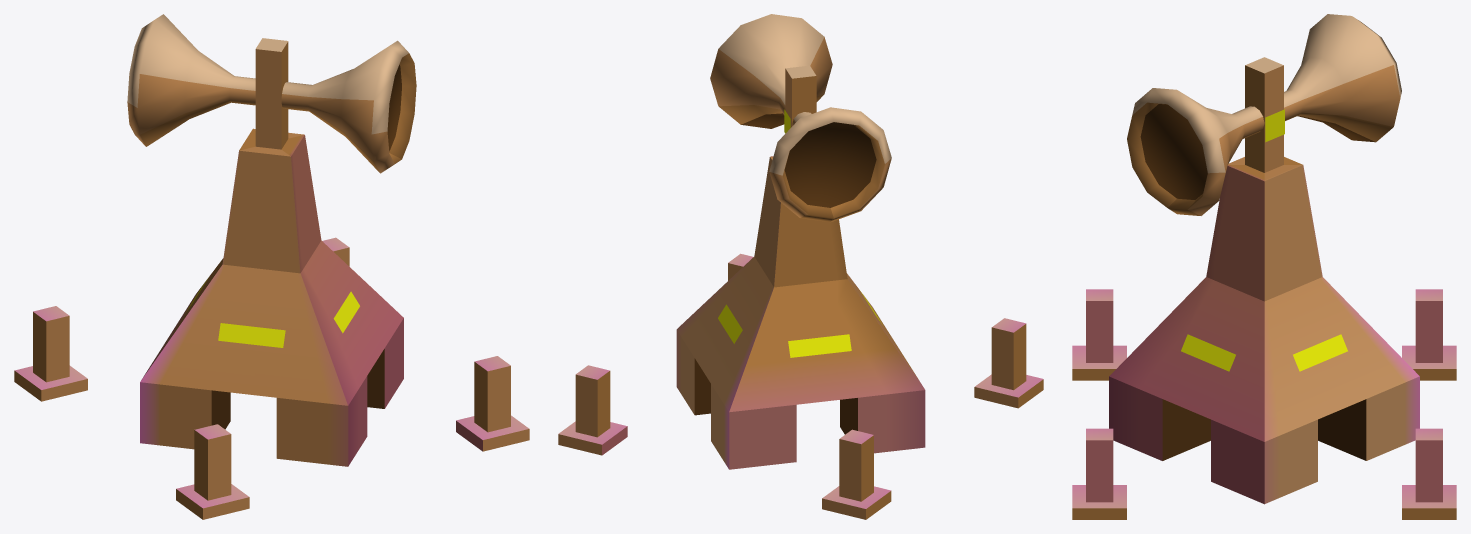
The model's file is CommTower.BrownDesert.glb.
3 renders of one model, left to right at view 1: azimuth 30°, elevation 25°; view 2: azimuth 150°, elevation 25°; view 3: azimuth 270°, elevation 25°, orthographic. The views are drawn at different scales.
Visible parts, largest first — view 1: CommTower.BrownDesert; view 2: CommTower.BrownDesert; view 3: CommTower.BrownDesert.
Part boxes in pixels (box(x1,y1,x2,y2)): CommTower.BrownDesert: box(14, 14, 529, 519); CommTower.BrownDesert: box(558, 14, 1043, 519); CommTower.BrownDesert: box(1072, 14, 1456, 519).
Size of the model in its own units: 2.8 by 3.1 by 2.8.
2 materials, 1 textured.
